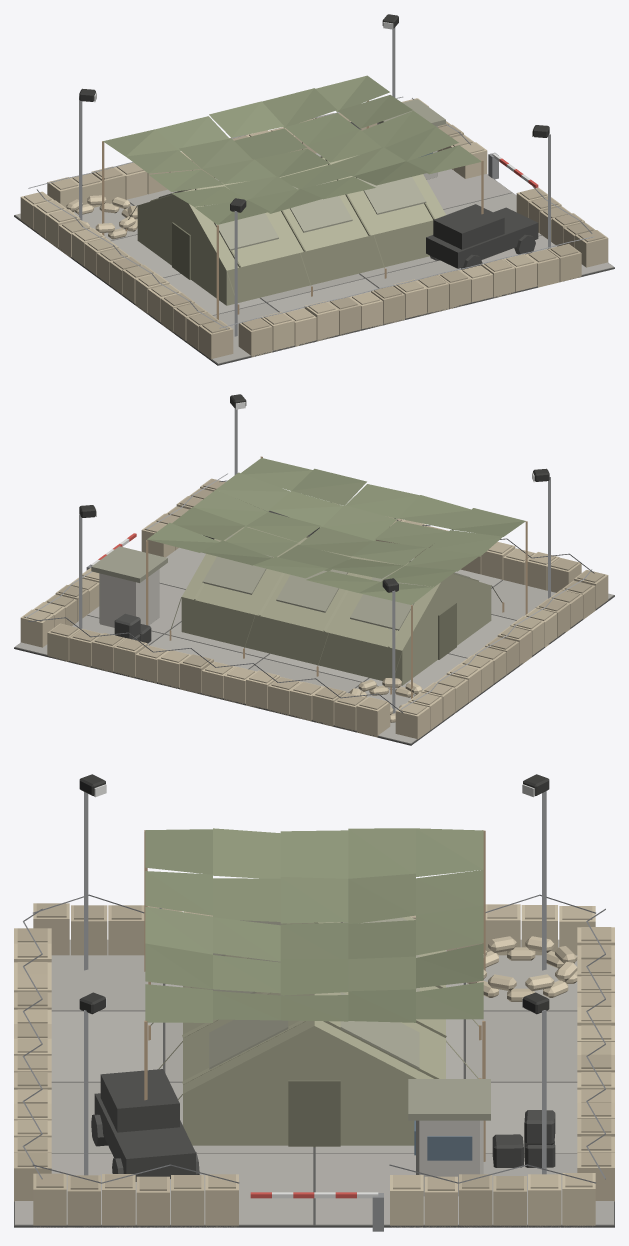
Rendered from b_commandopost.glb.
The picture shows the model from 3 angles, top to bottom: view 1: azimuth 30°, elevation 25°; view 2: azimuth 150°, elevation 25°; view 3: azimuth 270°, elevation 25°; orthographic projection. The views are drawn at different scales.
Parts seen in each view (by area): view 1: hull; view 2: hull; view 3: hull.
Part boxes in pixels (box(x1,y1,x2,y2)): hull: box(14, 14, 614, 365); hull: box(14, 394, 614, 745); hull: box(14, 774, 614, 1231).
Size of the model in its own units: 18.25 by 5.78 by 16.
